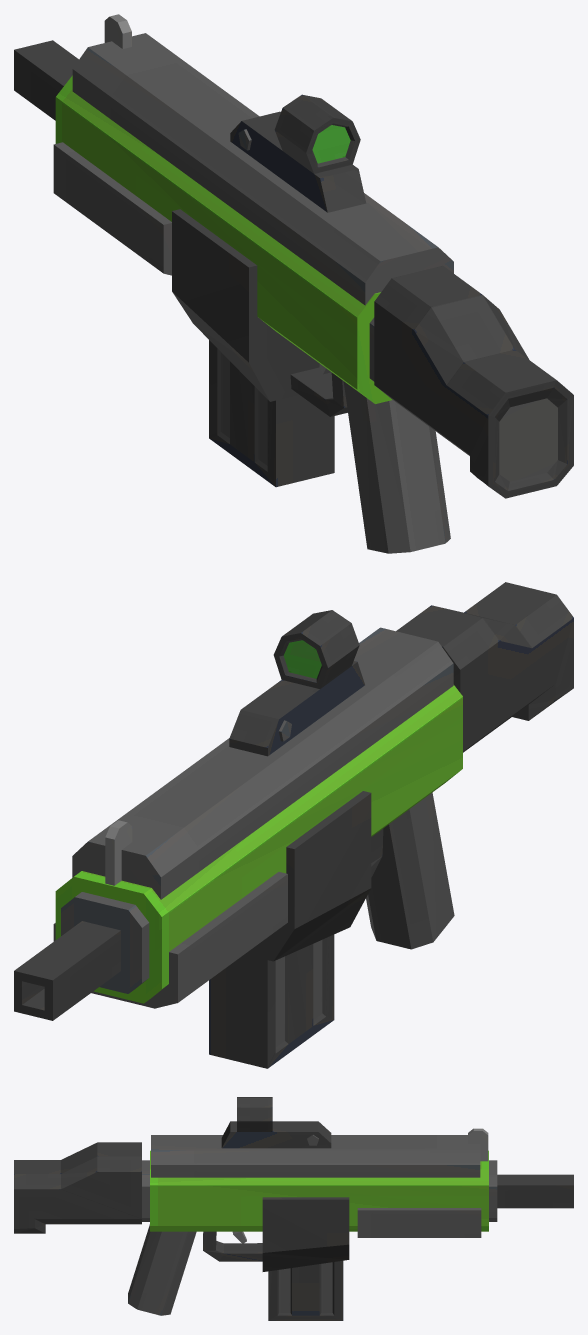
Rendered from smg_8.glb.
3 views of the same model, one above another, from view 1: azimuth 30°, elevation 25°; view 2: azimuth 150°, elevation 25°; view 3: azimuth 270°, elevation 25° (orthographic). The views are drawn at different scales.
Visible parts, largest first — view 1: subfusil_8_texture_0; view 2: subfusil_8_texture_0; view 3: subfusil_8_texture_0.
Part boxes in pixels (left/top/right/bottom): subfusil_8_texture_0: left=14, top=14, right=573, bottom=553; subfusil_8_texture_0: left=14, top=582, right=573, bottom=1068; subfusil_8_texture_0: left=14, top=1097, right=573, bottom=1320.
Size of the model in its own units: 0.0851 by 0.2502 by 0.59.
Materials: 1 (1 with a texture image).
